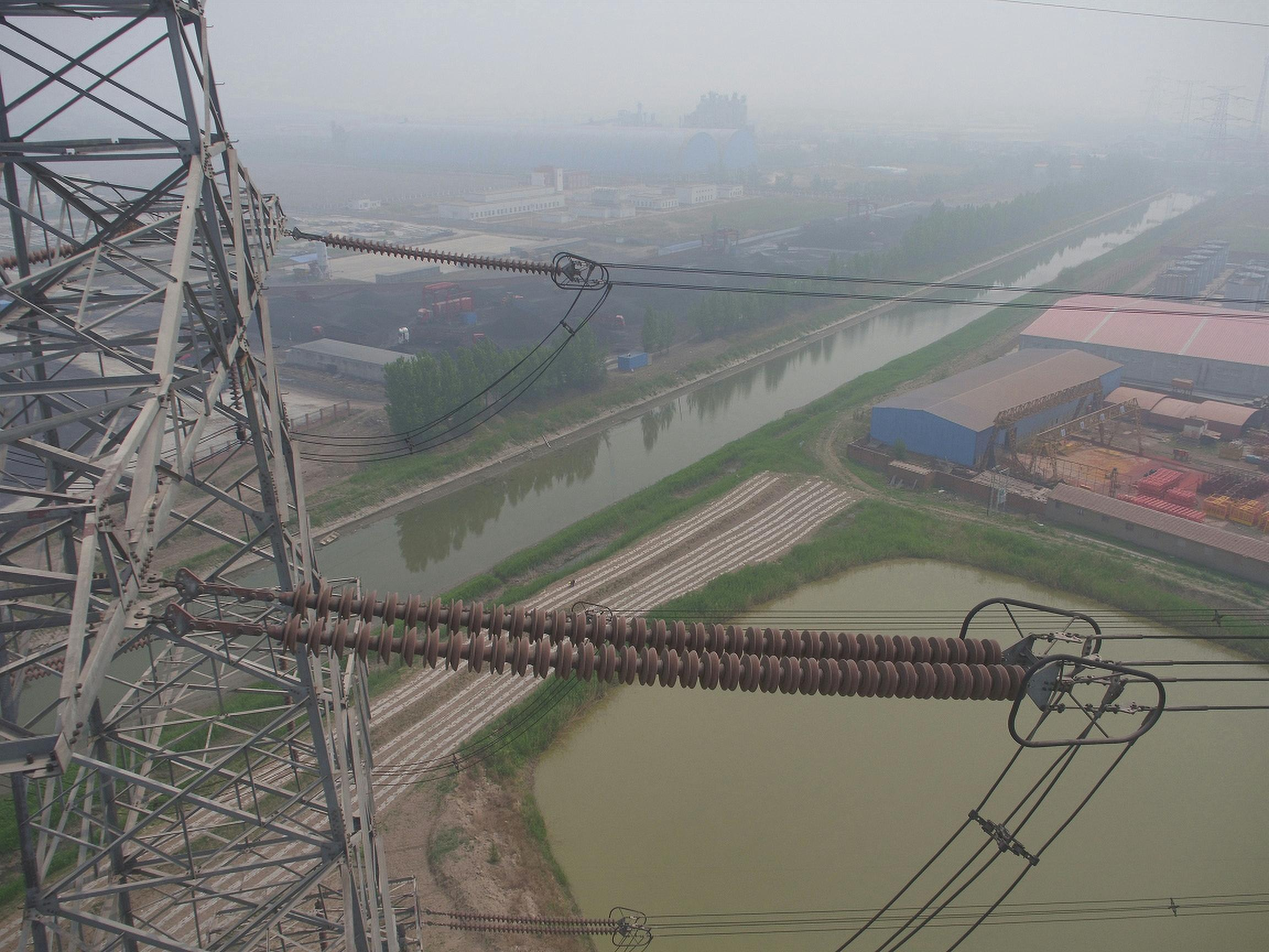insulator: (275, 578, 1033, 705), (321, 231, 564, 278), (7, 630, 154, 688), (448, 910, 618, 937), (1, 241, 77, 273), (226, 363, 245, 412)
